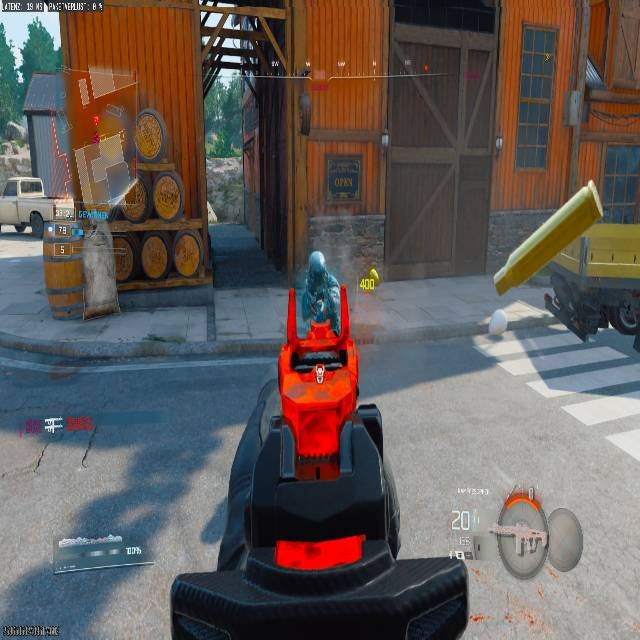player: (298, 253, 341, 333)
